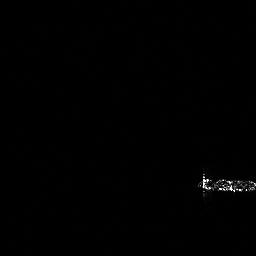ship: (192, 168, 256, 200)
